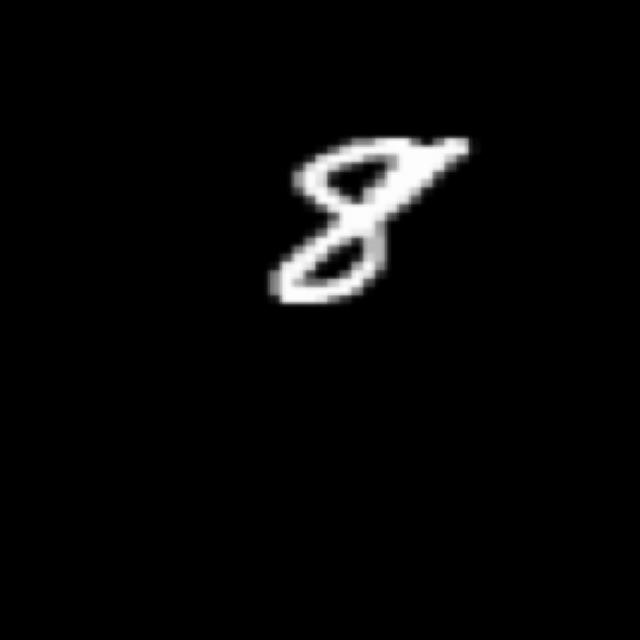eight -8-: (254, 126, 475, 309)
